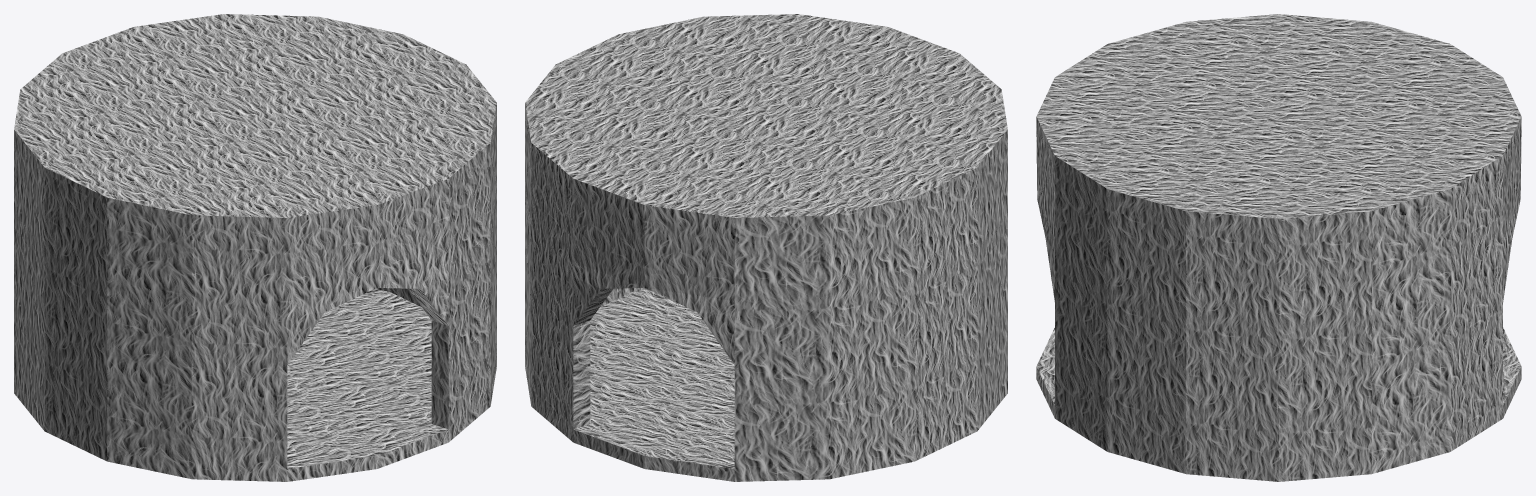
The model's file is cat_house_pass_through.glb.
3 renders of one model, left to right at view 1: azimuth 30°, elevation 25°; view 2: azimuth 150°, elevation 25°; view 3: azimuth 270°, elevation 25°, orthographic.
Visible parts, largest first — view 1: PassThrough; view 2: PassThrough; view 3: PassThrough.
Boxes of the visible parts, <box> form: PassThrough: <box>14,14,496,481</box>; PassThrough: <box>525,14,1007,481</box>; PassThrough: <box>1036,14,1521,481</box>.
Size of the model in its own units: 2 by 1.2 by 2.
Materials: 1 (1 with a texture image).
